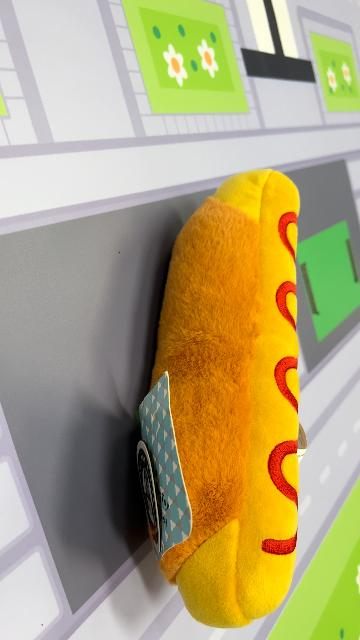hotdog: (136, 168, 304, 630)
